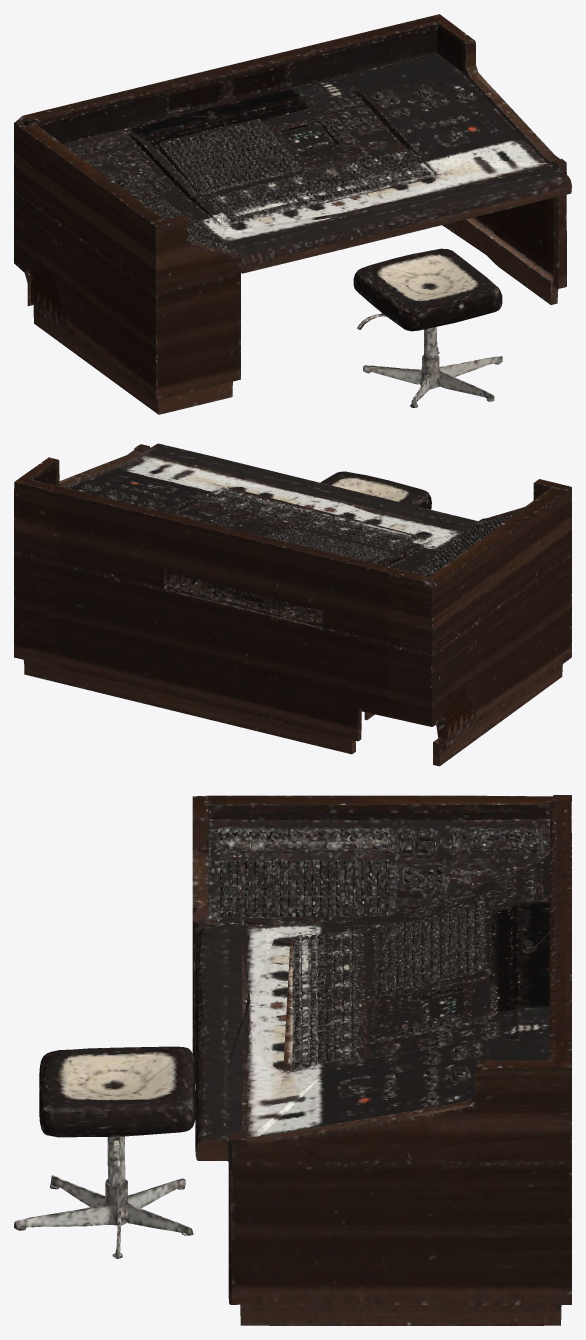
Rendered from console.glb.
3 views of the same model, one above another, from view 1: azimuth 30°, elevation 25°; view 2: azimuth 150°, elevation 25°; view 3: azimuth 270°, elevation 25° (orthographic). The views are drawn at different scales.
Visible parts, largest first — view 1: output_unwrapped; view 2: output_unwrapped; view 3: output_unwrapped.
Part boxes in pixels (x1=…): output_unwrapped: x1=14, y1=14, x2=571, y2=414; output_unwrapped: x1=14, y1=443, x2=571, y2=766; output_unwrapped: x1=14, y1=795, x2=571, y2=1325.
Size of the model in its own units: 1.98 by 0.8995 by 1.68.
1 material, 1 textured.
